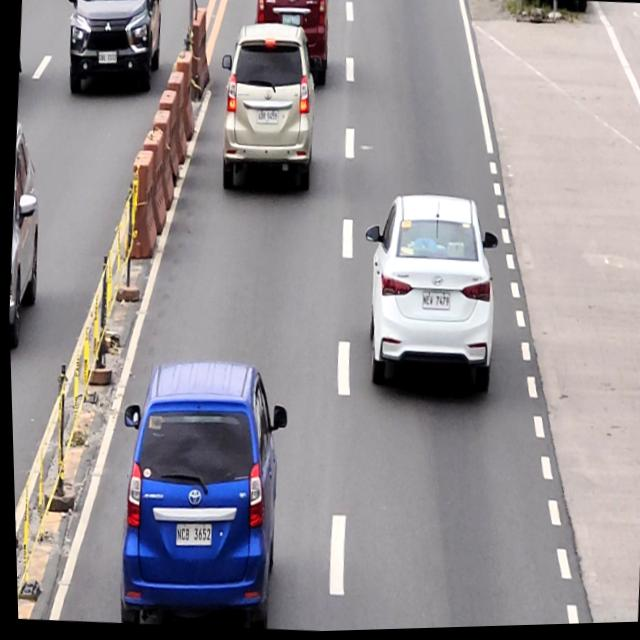Car: (106, 351, 293, 634), (352, 191, 504, 400), (210, 17, 326, 200), (247, 0, 330, 91)
License-Plate: (171, 524, 209, 549), (418, 294, 449, 314), (255, 110, 277, 128), (280, 15, 299, 30)
